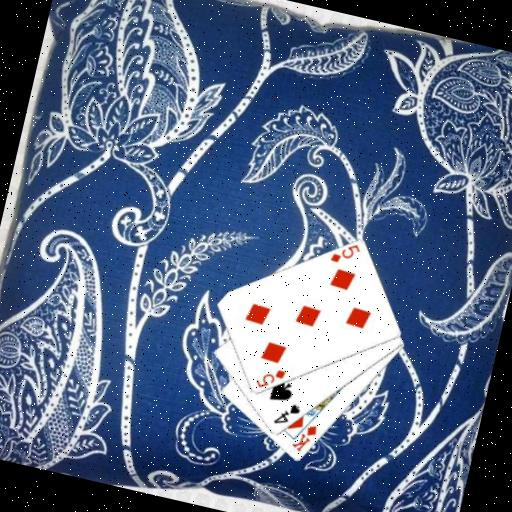4S: (270, 398, 303, 431)
5D: (251, 362, 288, 395), (326, 237, 363, 270)
KD: (288, 419, 320, 457)
